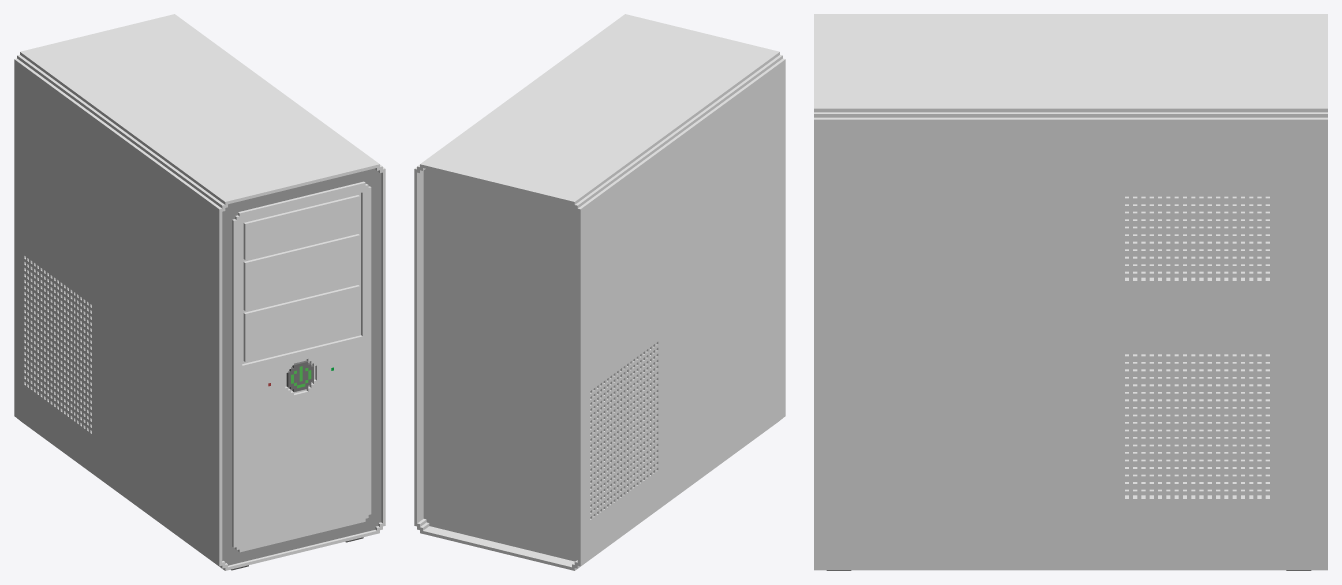
File: Desktop2.fbx
3 views of the same model, side by side, from view 1: azimuth 30°, elevation 25°; view 2: azimuth 150°, elevation 25°; view 3: azimuth 270°, elevation 25° (orthographic). The views are drawn at different scales.
Parts seen in each view (by area): view 1: Desktop2; view 2: Desktop2; view 3: Desktop2.
Boxes of the visible parts, x1,y1,x2,y2 form: Desktop2: (14, 14, 385, 570); Desktop2: (414, 14, 785, 570); Desktop2: (814, 14, 1327, 570).
Bounding box in the file's own units: 5.8 × 12.5 × 12.4.
